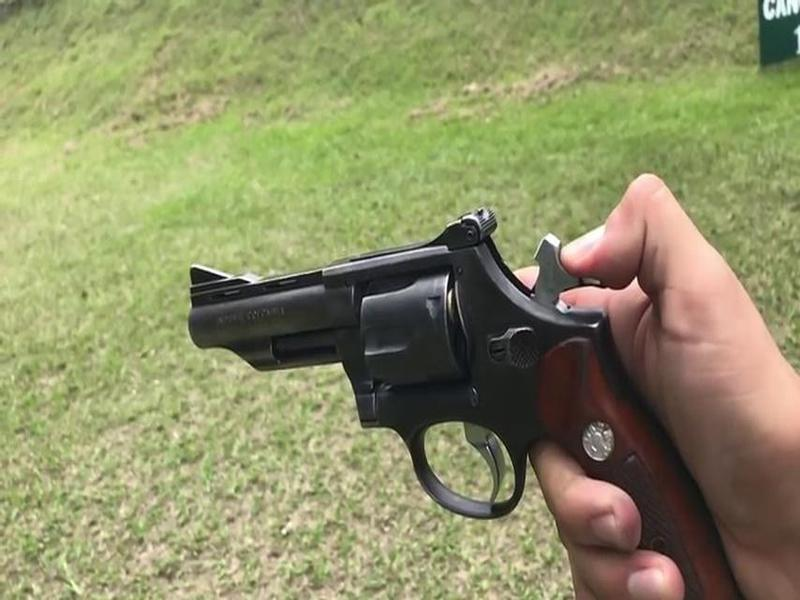Revolver: (171, 203, 629, 600)
